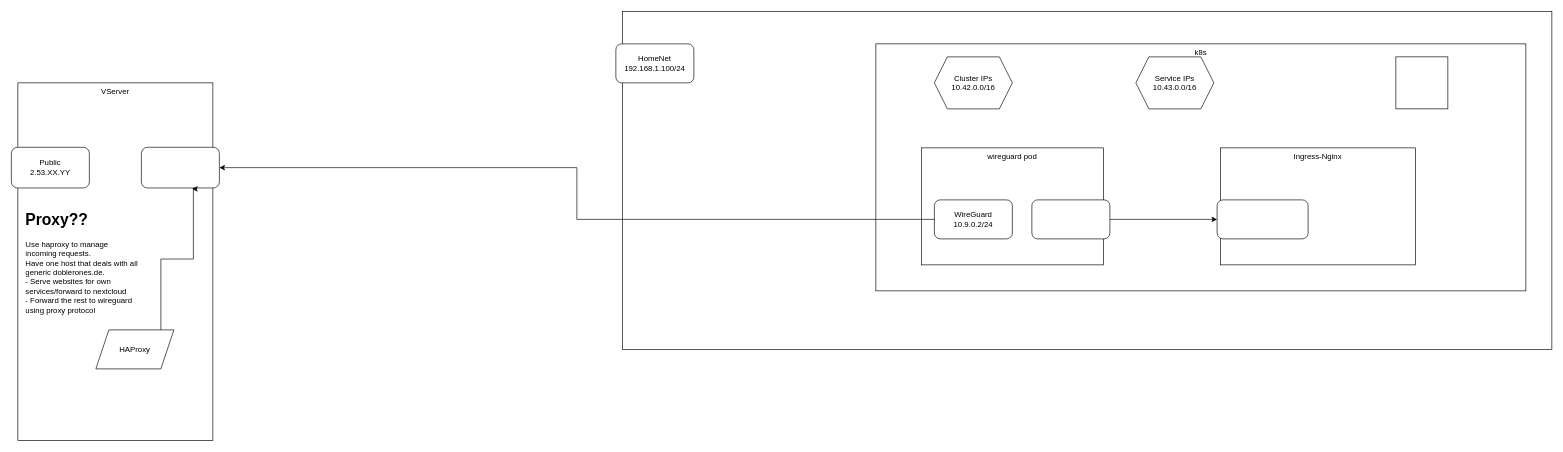
Some shapes in this 1563 by 452 pixel diagram are drawn without their labels. Each missing label, with the box of its shape:
Cluster DNS 10.43.0.10: (1395, 56, 1448, 109)
ClusterIP 10.42.XX.YY: (1031, 199, 1110, 239)
Futro: (622, 11, 1552, 349)
service ingress[...]nginx.svc.[...] 10.43.XX.YY: (1216, 199, 1308, 239)
WireGuard 10.9.0.1/24: (141, 147, 219, 188)
